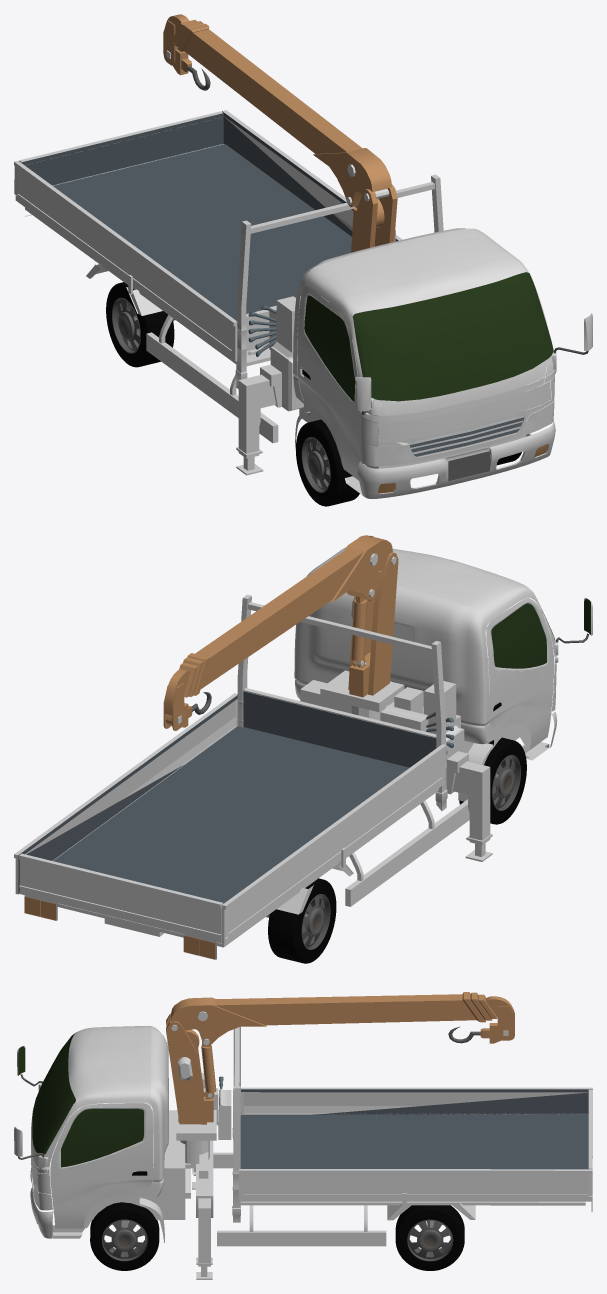
File: car17.glb
3 views of the same model, one above another, from view 1: azimuth 30°, elevation 25°; view 2: azimuth 150°, elevation 25°; view 3: azimuth 270°, elevation 25° (orthographic). The views are drawn at different scales.
Parts seen in each view (by area): view 1: VehicleBody, ~17___Default_materialGroup_16, obj0~Material__32_materialGroup_0, ~_____2_materialGroup_3, obj14~??_21_materialGroup_8, obj34~??_21_materialGroup_14, ~_____20_materialGroup_4, ~??_10_materialGroup_10, obj2~??_15_materialGroup_2; view 2: VehicleBody, ~17___Default_materialGroup_16, ~_____2_materialGroup_3, obj0~Material__32_materialGroup_0, obj34~??_21_materialGroup_14, ~??_10_materialGroup_10, obj14~??_21_materialGroup_8, ~??_16_materialGroup_11; view 3: VehicleBody, ~17___Default_materialGroup_16, ~_____2_materialGroup_3, obj0~Material__32_materialGroup_0, ~??_21_materialGroup_13, ~??_10_materialGroup_10, ~??_16_materialGroup_11.
Boxes of the visible parts, x1,y1,x2,y2 form: VehicleBody: [14, 50, 592, 498]; ~17___Default_materialGroup_16: [22, 111, 398, 320]; obj0~Material__32_materialGroup_0: [304, 272, 553, 401]; ~_____2_materialGroup_3: [163, 14, 548, 493]; obj14~??_21_materialGroup_8: [296, 419, 363, 506]; obj34~??_21_materialGroup_14: [106, 282, 174, 367]; ~_____20_materialGroup_4: [248, 305, 523, 456]; ~??_10_materialGroup_10: [112, 297, 330, 492]; obj2~??_15_materialGroup_2: [448, 451, 489, 481]; VehicleBody: [14, 535, 592, 959]; ~17___Default_materialGroup_16: [18, 691, 436, 935]; ~_____2_materialGroup_3: [24, 535, 398, 959]; obj0~Material__32_materialGroup_0: [491, 603, 554, 668]; obj34~??_21_materialGroup_14: [268, 878, 336, 963]; ~??_10_materialGroup_10: [301, 755, 520, 949]; obj14~??_21_materialGroup_8: [459, 737, 526, 824]; ~??_16_materialGroup_11: [307, 769, 514, 935]; VehicleBody: [14, 1011, 592, 1279]; ~17___Default_materialGroup_16: [240, 1089, 592, 1169]; ~_____2_materialGroup_3: [166, 992, 592, 1211]; obj0~Material__32_materialGroup_0: [32, 1033, 143, 1167]; ~??_21_materialGroup_13: [90, 1202, 464, 1270]; ~??_10_materialGroup_10: [101, 1219, 453, 1261]; ~??_16_materialGroup_11: [113, 1229, 441, 1250].
Size of the model in its own units: 3.13 by 3.62 by 7.93.
